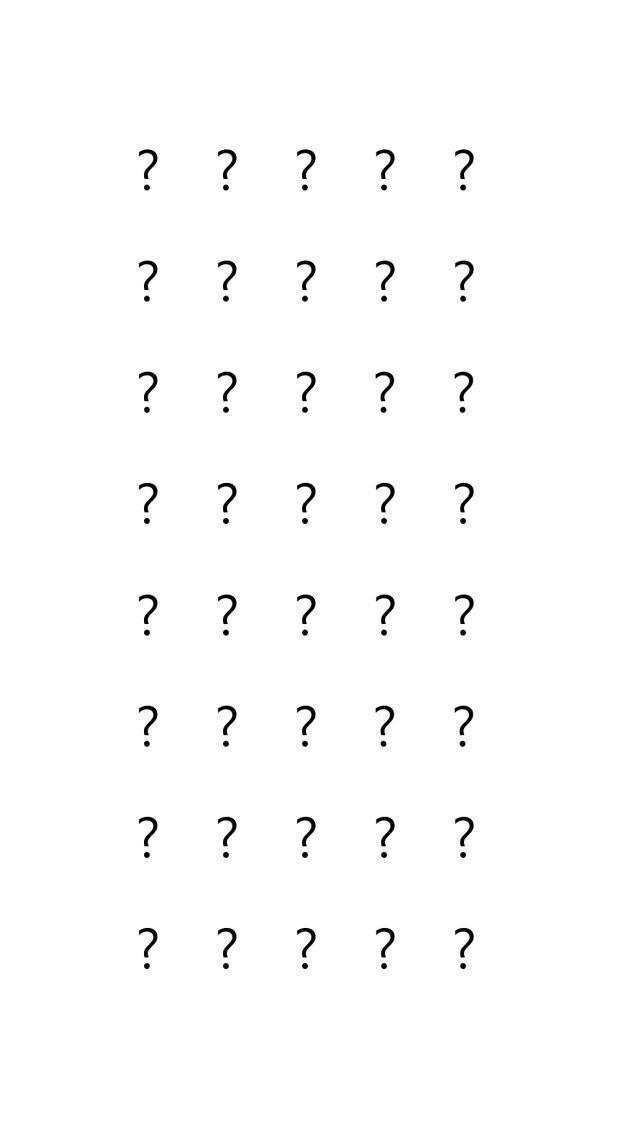ASCII: (434, 579, 482, 648), (126, 584, 176, 648), (282, 584, 332, 648), (285, 362, 332, 429), (204, 584, 252, 648), (361, 587, 409, 648), (206, 359, 248, 426), (366, 806, 406, 876), (209, 468, 249, 532), (445, 356, 485, 419), (442, 140, 482, 202), (448, 246, 481, 315), (450, 915, 480, 990), (130, 138, 163, 206), (132, 918, 164, 986), (132, 472, 164, 538), (292, 246, 323, 314), (214, 916, 244, 986), (450, 691, 480, 761), (132, 247, 163, 314), (132, 358, 163, 424), (371, 246, 401, 314), (372, 914, 402, 982), (370, 137, 400, 205), (370, 361, 400, 429), (450, 470, 480, 538), (292, 136, 322, 204), (214, 246, 244, 314), (450, 808, 480, 876), (214, 136, 244, 204), (372, 471, 402, 538), (371, 691, 400, 760), (215, 692, 244, 761), (294, 471, 324, 537), (294, 916, 322, 986), (133, 694, 163, 759), (132, 805, 162, 869), (294, 692, 322, 758), (294, 808, 322, 872), (216, 808, 243, 874)
